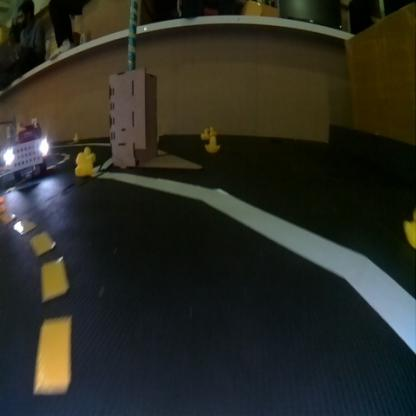Duckie: (403, 207, 415, 247), (76, 153, 92, 175), (205, 135, 219, 151), (82, 147, 94, 161), (210, 125, 217, 133), (201, 132, 208, 139), (73, 132, 77, 140)
Duckiebot: (2, 130, 50, 180)
